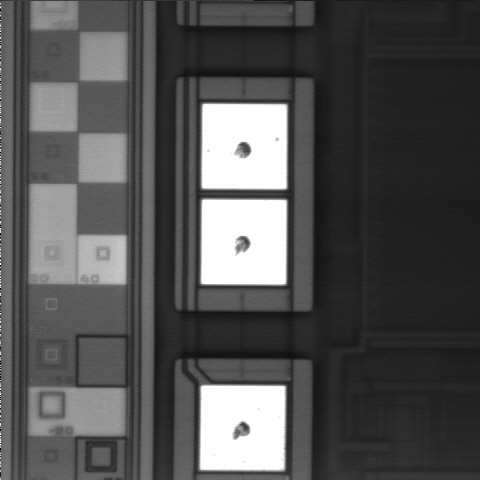pad: (201, 200, 287, 285), (202, 104, 287, 189), (200, 386, 285, 470)
